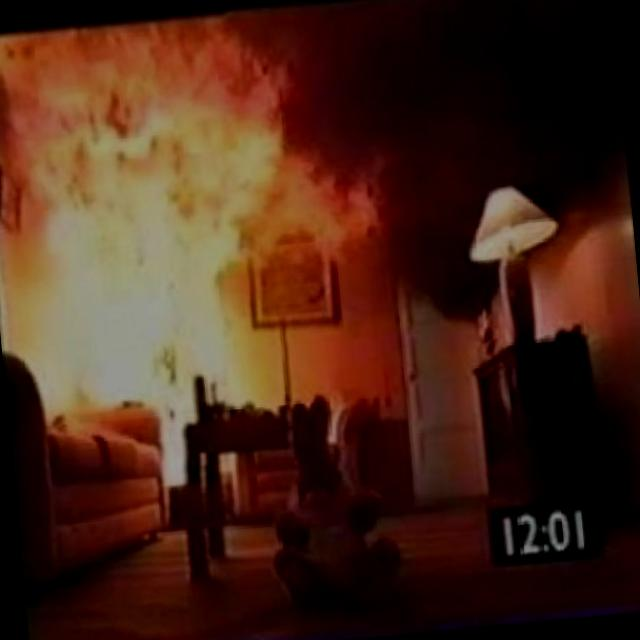fire: (0, 3, 393, 518)
